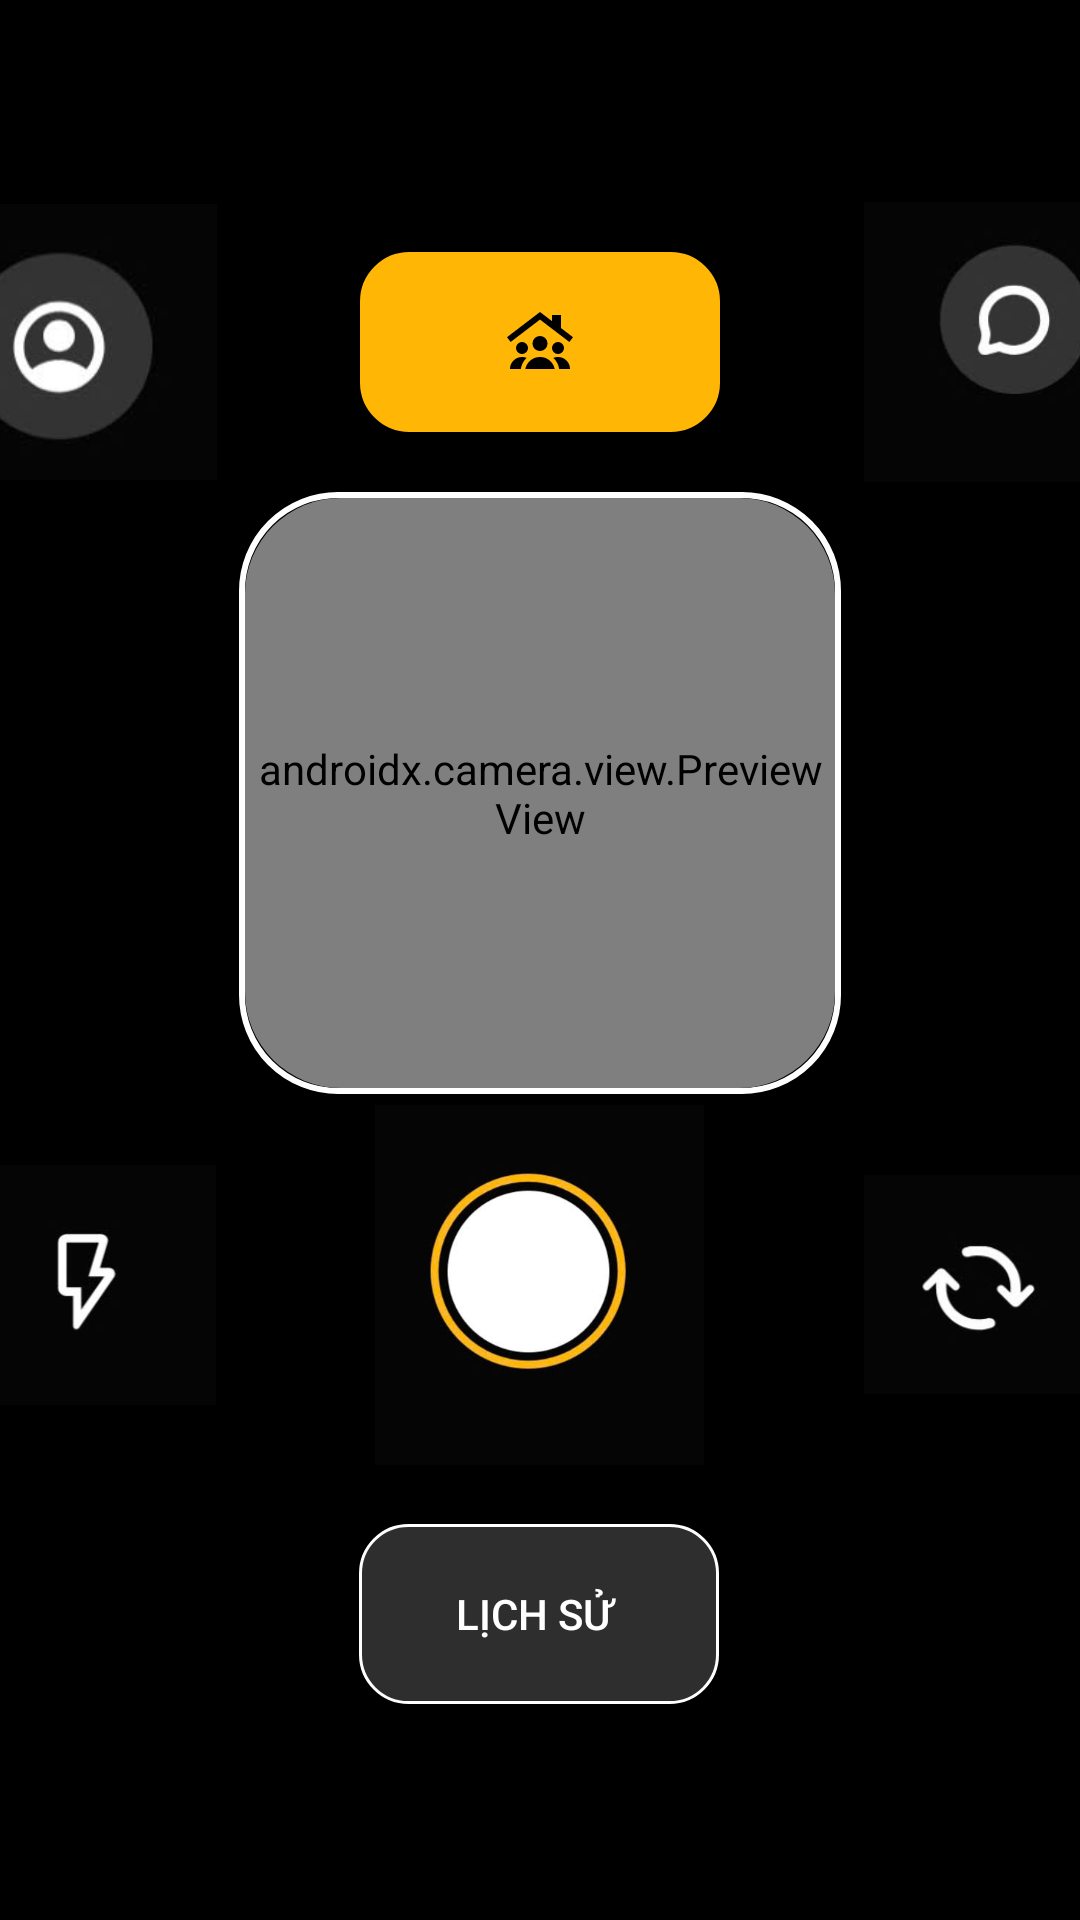

Named icons in this screenshot (1080×1920) and their bounding boxes, (left=x1, top=y1, right=x2, bottom=y2):
Capture: (left=430, top=1173, right=626, bottom=1369)
Flash: (left=57, top=1233, right=116, bottom=1330)
Friends: (left=360, top=252, right=720, bottom=432)
Switch camera: (left=922, top=1246, right=1035, bottom=1331)
